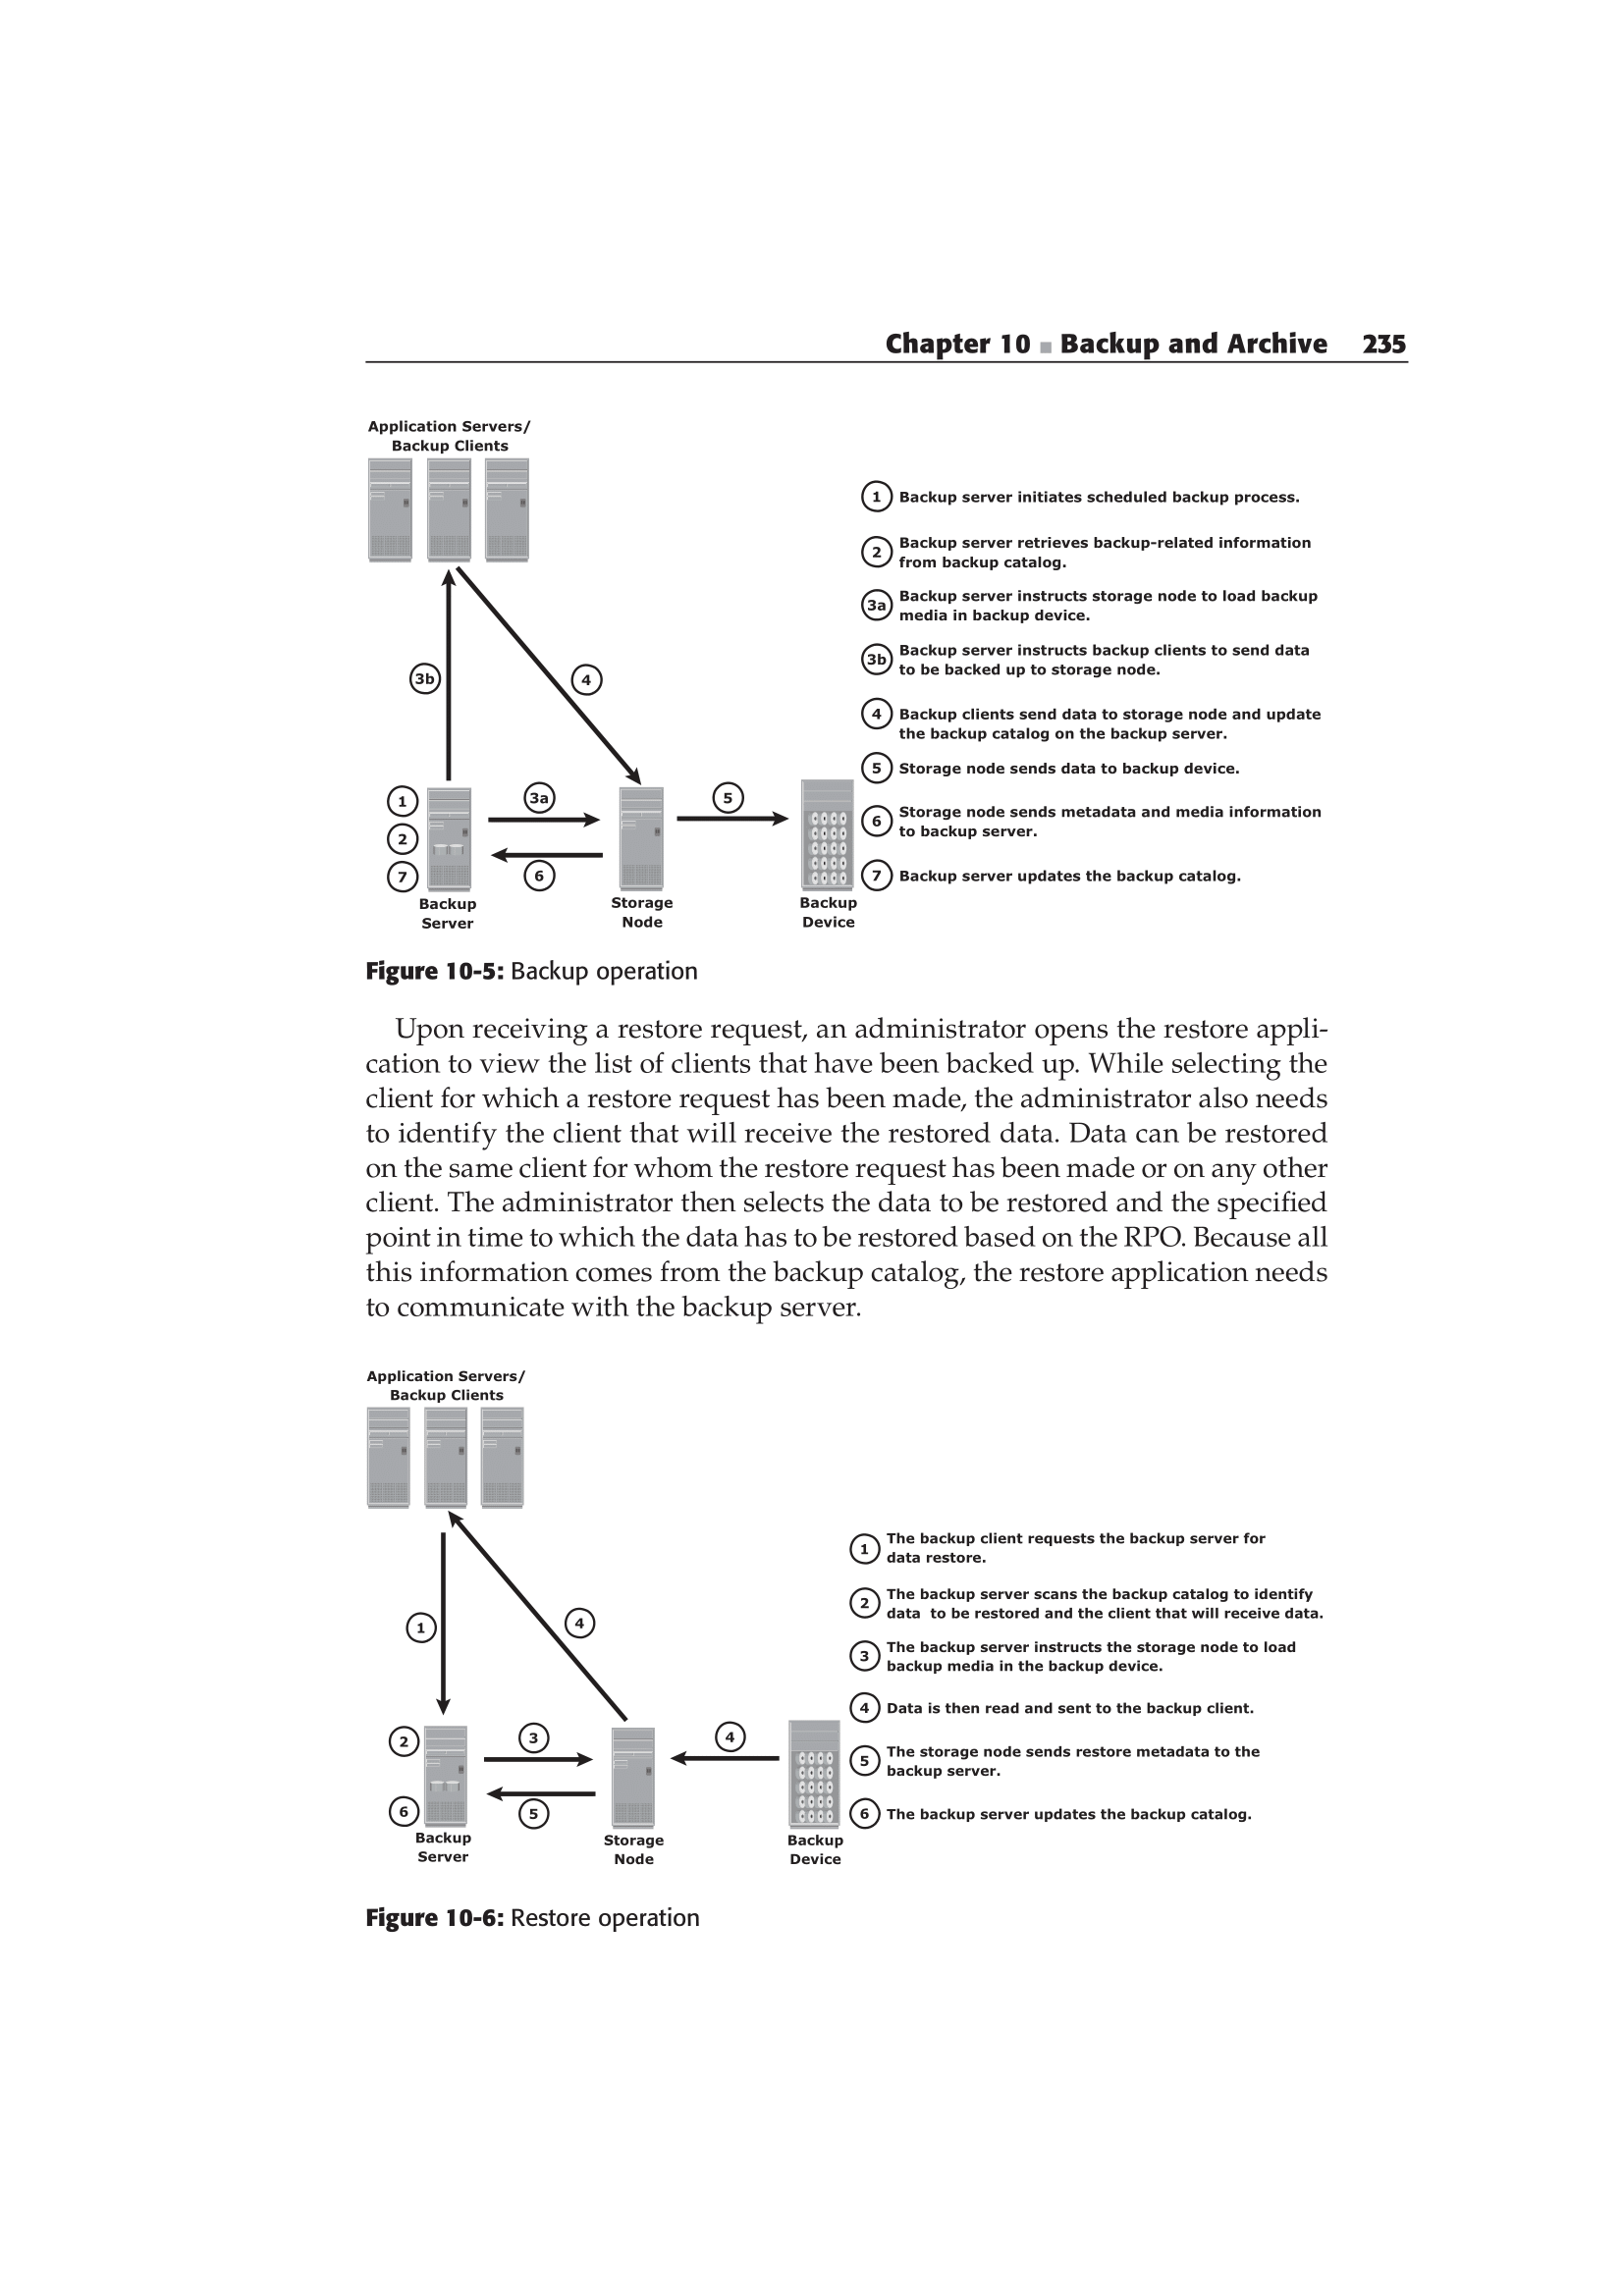Image: (343, 379, 848, 999), (358, 1371, 859, 1878)
Paragraph: (365, 1008, 1333, 1327), (889, 579, 1319, 634), (871, 1511, 1288, 1566), (871, 319, 1425, 360), (887, 792, 1321, 843), (894, 702, 1324, 751), (878, 1580, 1328, 1625), (887, 635, 1316, 683), (889, 535, 1324, 574), (892, 476, 1302, 514), (880, 1636, 1305, 1671), (365, 1896, 697, 1940), (882, 1740, 1270, 1776), (894, 1790, 1261, 1827), (896, 758, 1240, 785), (885, 1697, 1261, 1718), (901, 864, 1230, 881)
